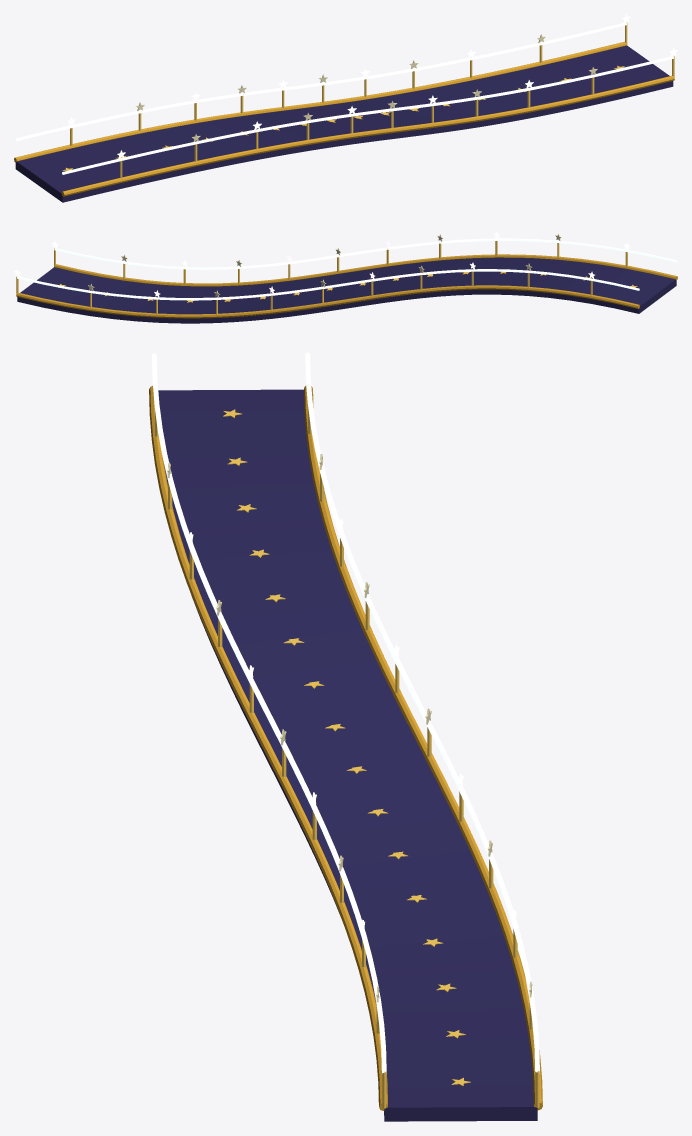
Rendered from CosmicBridge.fbx.
The picture shows the model from 3 angles, top to bottom: view 1: azimuth 30°, elevation 25°; view 2: azimuth 150°, elevation 25°; view 3: azimuth 270°, elevation 25°; orthographic projection. The views are drawn at different scales.
Parts seen in each view (by area): view 1: BridgeCloudCosmic__Deck__2E2A5CSP, BridgeCloudCosmic__Kerb__E0A830ME, BridgeCloudCosmic__Rails__7FE9FFNE, BridgeCloudCosmic__Posts__FFD25AME, BridgeCloudCosmic__Stars0__A98BFFNE, BridgeCloudCosmic__Stars1__FFF6C8NE; view 2: BridgeCloudCosmic__Deck__2E2A5CSP, BridgeCloudCosmic__Kerb__E0A830ME, BridgeCloudCosmic__Rails__7FE9FFNE, BridgeCloudCosmic__Posts__FFD25AME, BridgeCloudCosmic__Stars0__A98BFFNE, BridgeCloudCosmic__Stars1__FFF6C8NE, BridgeCloudCosmic__DeckStars__FFD25AME; view 3: BridgeCloudCosmic__Deck__2E2A5CSP, BridgeCloudCosmic__Kerb__E0A830ME, BridgeCloudCosmic__Rails__7FE9FFNE, BridgeCloudCosmic__Posts__FFD25AME, BridgeCloudCosmic__DeckStars__FFD25AME.
Part boxes in pixels (<box>): BridgeCloudCosmic__Deck__2E2A5CSP: <box>15,45,673,202</box>; BridgeCloudCosmic__Kerb__E0A830ME: <box>14,41,674,196</box>; BridgeCloudCosmic__Rails__7FE9FFNE: <box>15,22,673,174</box>; BridgeCloudCosmic__Posts__FFD25AME: <box>70,22,674,178</box>; BridgeCloudCosmic__Stars0__A98BFFNE: <box>67,14,677,158</box>; BridgeCloudCosmic__Stars1__FFF6C8NE: <box>136,34,597,141</box>; BridgeCloudCosmic__Deck__2E2A5CSP: <box>17,257,676,323</box>; BridgeCloudCosmic__Kerb__E0A830ME: <box>16,254,677,318</box>; BridgeCloudCosmic__Rails__7FE9FFNE: <box>17,238,677,300</box>; BridgeCloudCosmic__Posts__FFD25AME: <box>16,241,627,314</box>; BridgeCloudCosmic__Stars0__A98BFFNE: <box>14,231,630,297</box>; BridgeCloudCosmic__Stars1__FFF6C8NE: <box>88,233,561,297</box>; BridgeCloudCosmic__DeckStars__FFD25AME: <box>58,271,637,302</box>; BridgeCloudCosmic__Deck__2E2A5CSP: <box>158,389,537,1121</box>; BridgeCloudCosmic__Kerb__E0A830ME: <box>149,386,542,1110</box>; BridgeCloudCosmic__Rails__7FE9FFNE: <box>152,352,539,1073</box>; BridgeCloudCosmic__Posts__FFD25AME: <box>155,407,539,1108</box>; BridgeCloudCosmic__DeckStars__FFD25AME: <box>223,409,470,1086</box>.
Size of the model in its own units: 85.64 by 16.52 by 25.7.
